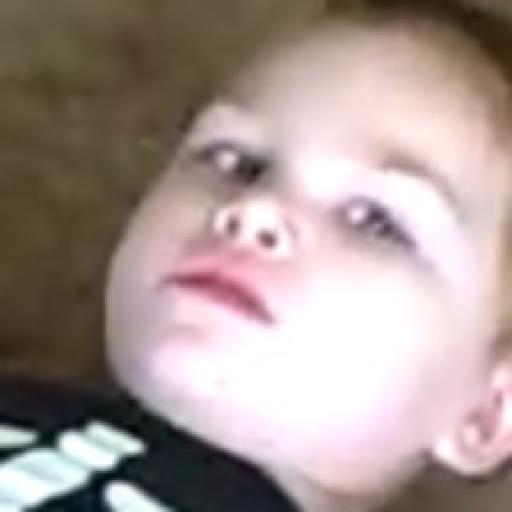Autism: (90, 17, 512, 473)
